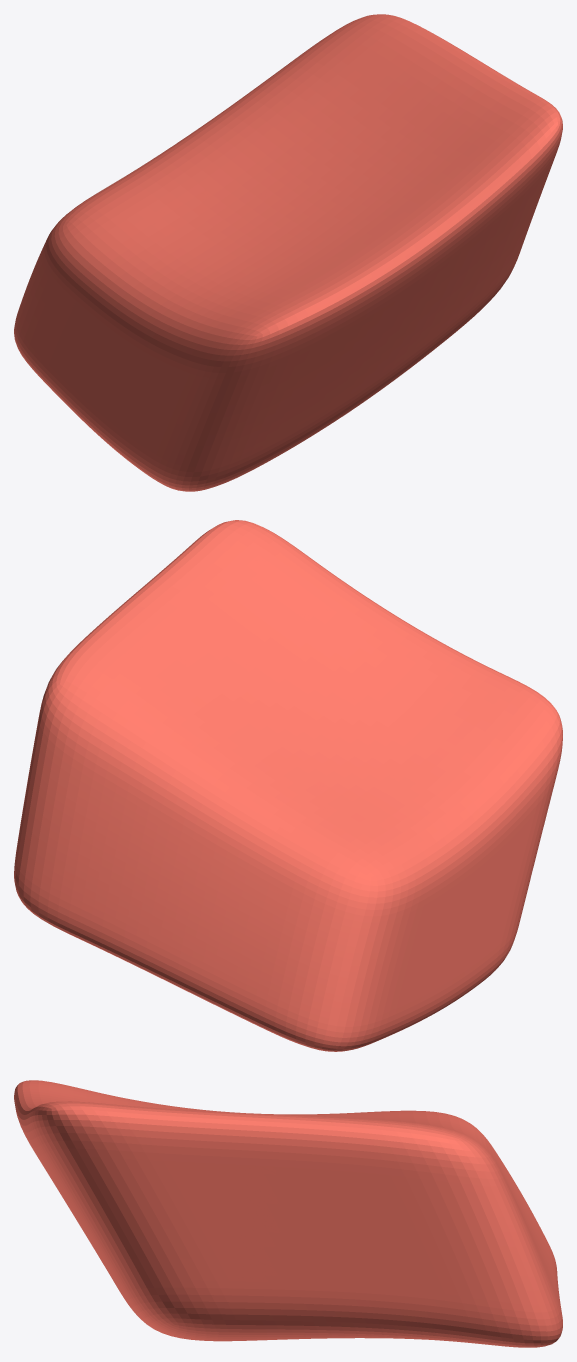
The picture shows the model from 3 angles, top to bottom: view 1: azimuth 30°, elevation 25°; view 2: azimuth 150°, elevation 25°; view 3: azimuth 270°, elevation 25°; orthographic projection. The views are drawn at different scales.
Visible parts, largest first — view 1: waves_1.039; view 2: waves_1.039; view 3: waves_1.039.
Part boxes in pixels (left/top/right/bottom): waves_1.039: left=14, top=14, right=562, bottom=491; waves_1.039: left=14, top=520, right=562, bottom=1051; waves_1.039: left=14, top=1080, right=562, bottom=1347.
Size of the model in its own units: 30.12 by 27.82 by 37.46.
